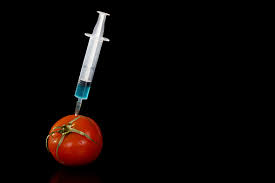tomato: (46, 114, 103, 164)
